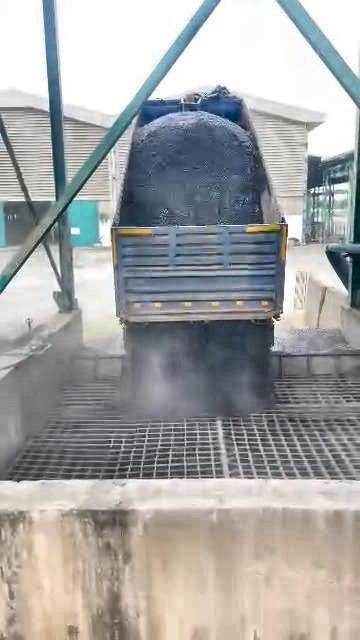gravel: (116, 111, 264, 225), (124, 321, 272, 414), (275, 327, 355, 355)
